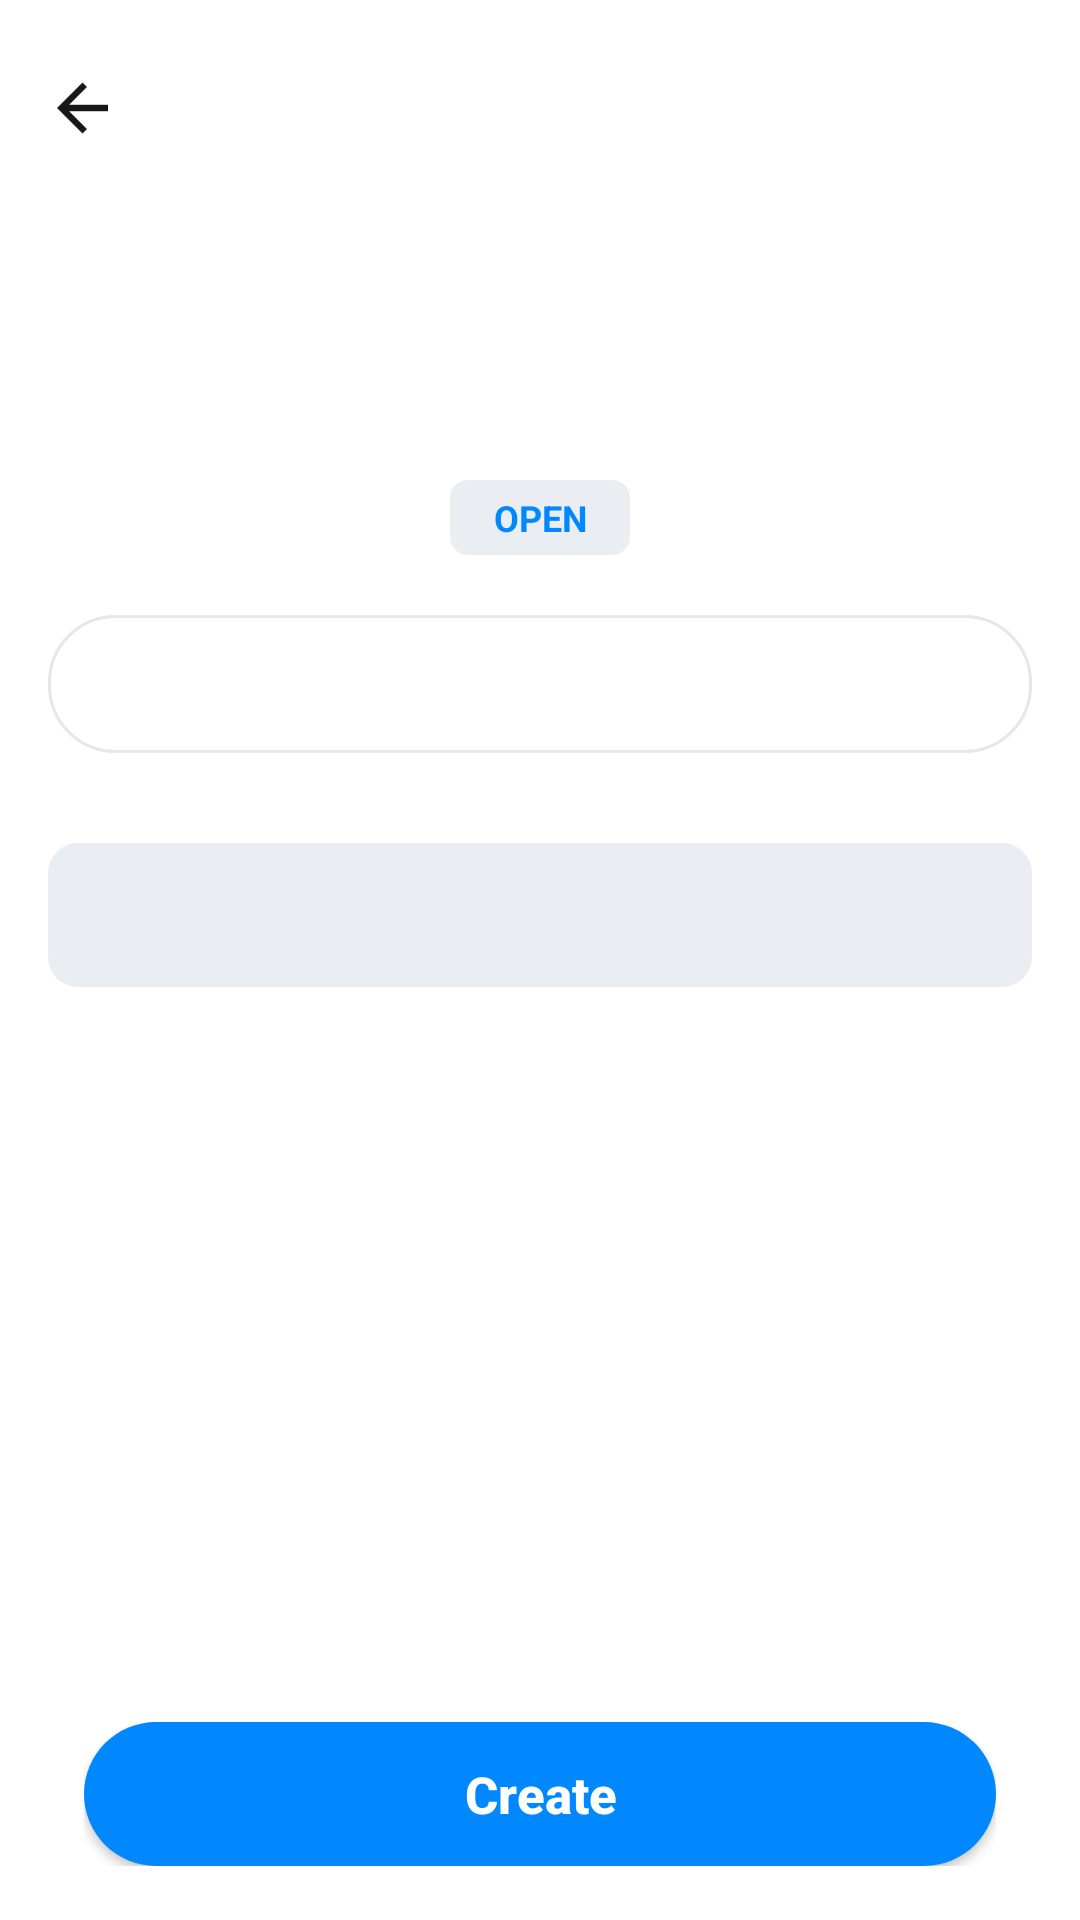

Icons on this 1080 x 1920 Android screen, each with its box as BBox(x1, y1, x2, y2):
results page return: BBox(57, 82, 108, 134)
